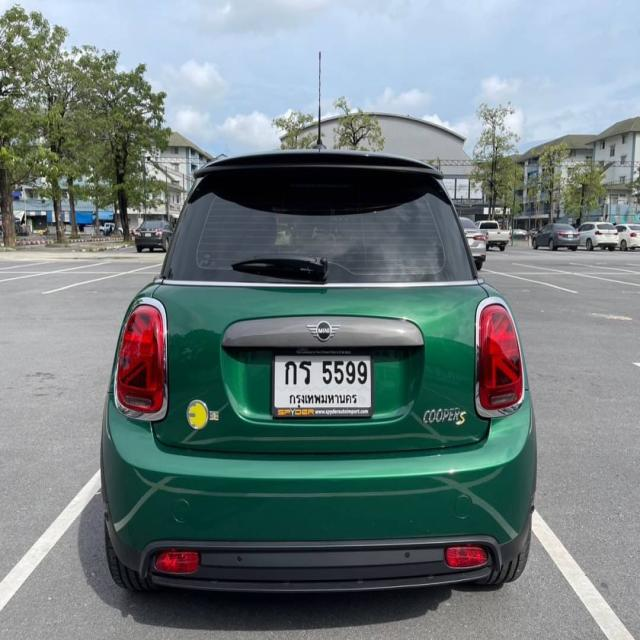license_plate: (271, 350, 373, 420)
